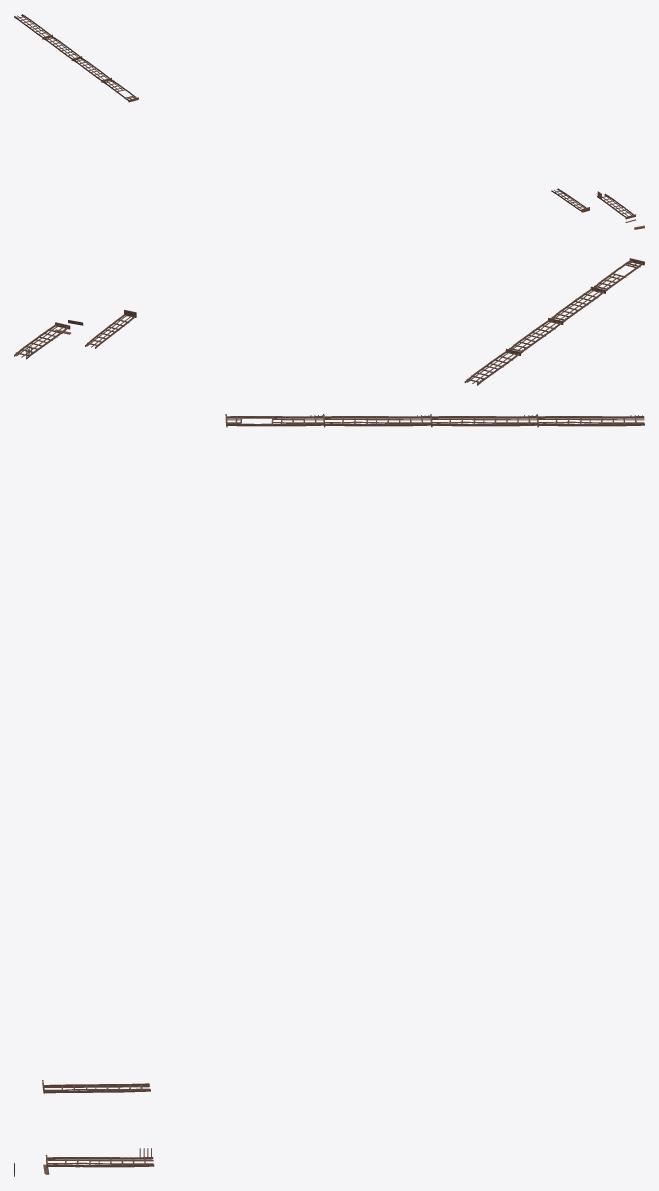
File: SM_Scene_A_Metal01.fbx
3 renders of one model, top to bottom at view 1: azimuth 30°, elevation 25°; view 2: azimuth 150°, elevation 25°; view 3: azimuth 270°, elevation 25°, orthographic. The views are drawn at different scales.
Visible parts, largest first — view 1: SM_Scene_A_Metal01; view 2: SM_Scene_A_Metal01; view 3: SM_Scene_A_Metal01.
Boxes of the visible parts, bbox=[...] form: SM_Scene_A_Metal01: bbox=[14, 14, 644, 229]; SM_Scene_A_Metal01: bbox=[14, 258, 644, 385]; SM_Scene_A_Metal01: bbox=[14, 414, 644, 1176].
Size of the model in its own units: 16686 by 6855 by 10969.
